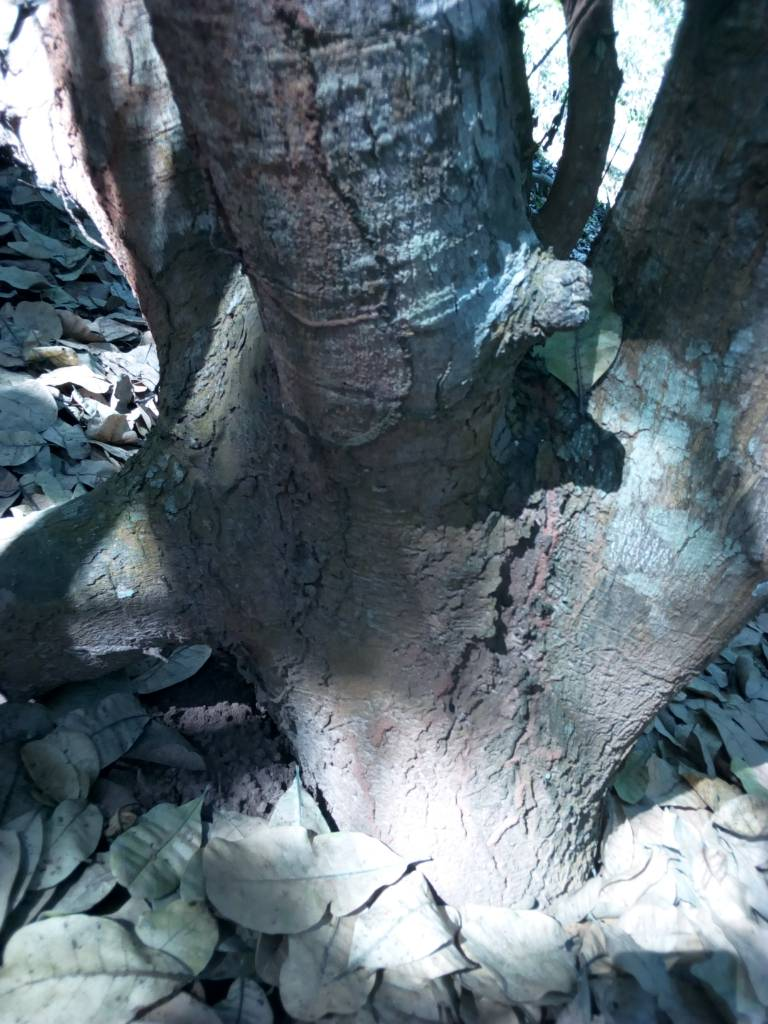Termites: (250, 527, 597, 878), (261, 33, 425, 452)
